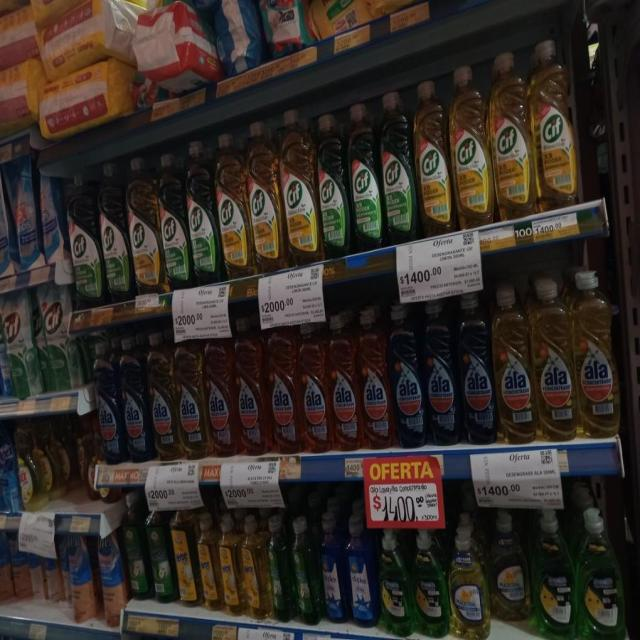ala_conc_amarillo: (576, 269, 620, 439), (534, 277, 574, 442), (495, 284, 533, 444), (148, 331, 176, 460), (177, 328, 204, 460)
ala_conc_azul: (459, 289, 494, 445), (424, 298, 458, 446), (391, 302, 423, 449), (93, 339, 121, 465), (121, 336, 148, 463)
ala_conc_rojo: (359, 306, 391, 450), (235, 316, 266, 456), (267, 319, 298, 455), (329, 313, 359, 452), (299, 319, 328, 454), (205, 324, 234, 458)
cif_conc_bot_amarilla: (533, 36, 577, 212), (492, 49, 531, 220), (452, 63, 490, 229), (416, 77, 450, 237), (282, 111, 317, 266), (249, 120, 281, 273), (218, 131, 248, 281), (129, 156, 159, 297)
cif_conc_botella_verde: (381, 89, 415, 244), (348, 101, 381, 253), (68, 169, 100, 310), (318, 111, 348, 259), (188, 139, 216, 286), (100, 160, 128, 304), (160, 151, 188, 290)
heroe: (292, 514, 319, 623), (241, 514, 269, 618), (173, 507, 199, 607), (269, 515, 291, 621), (198, 512, 221, 610), (220, 514, 242, 614)
magistral_con_amarillo: (449, 513, 488, 640), (490, 509, 530, 623)
magistral_con_verde: (578, 507, 627, 640), (533, 508, 576, 640), (413, 527, 447, 638), (379, 527, 411, 637)
